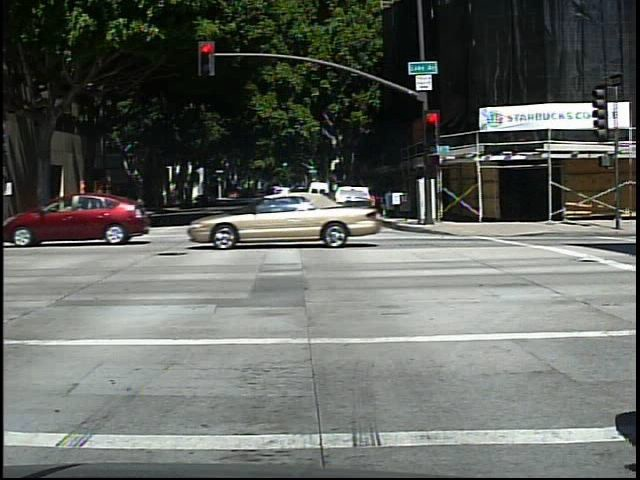person: (84, 184, 114, 237)
